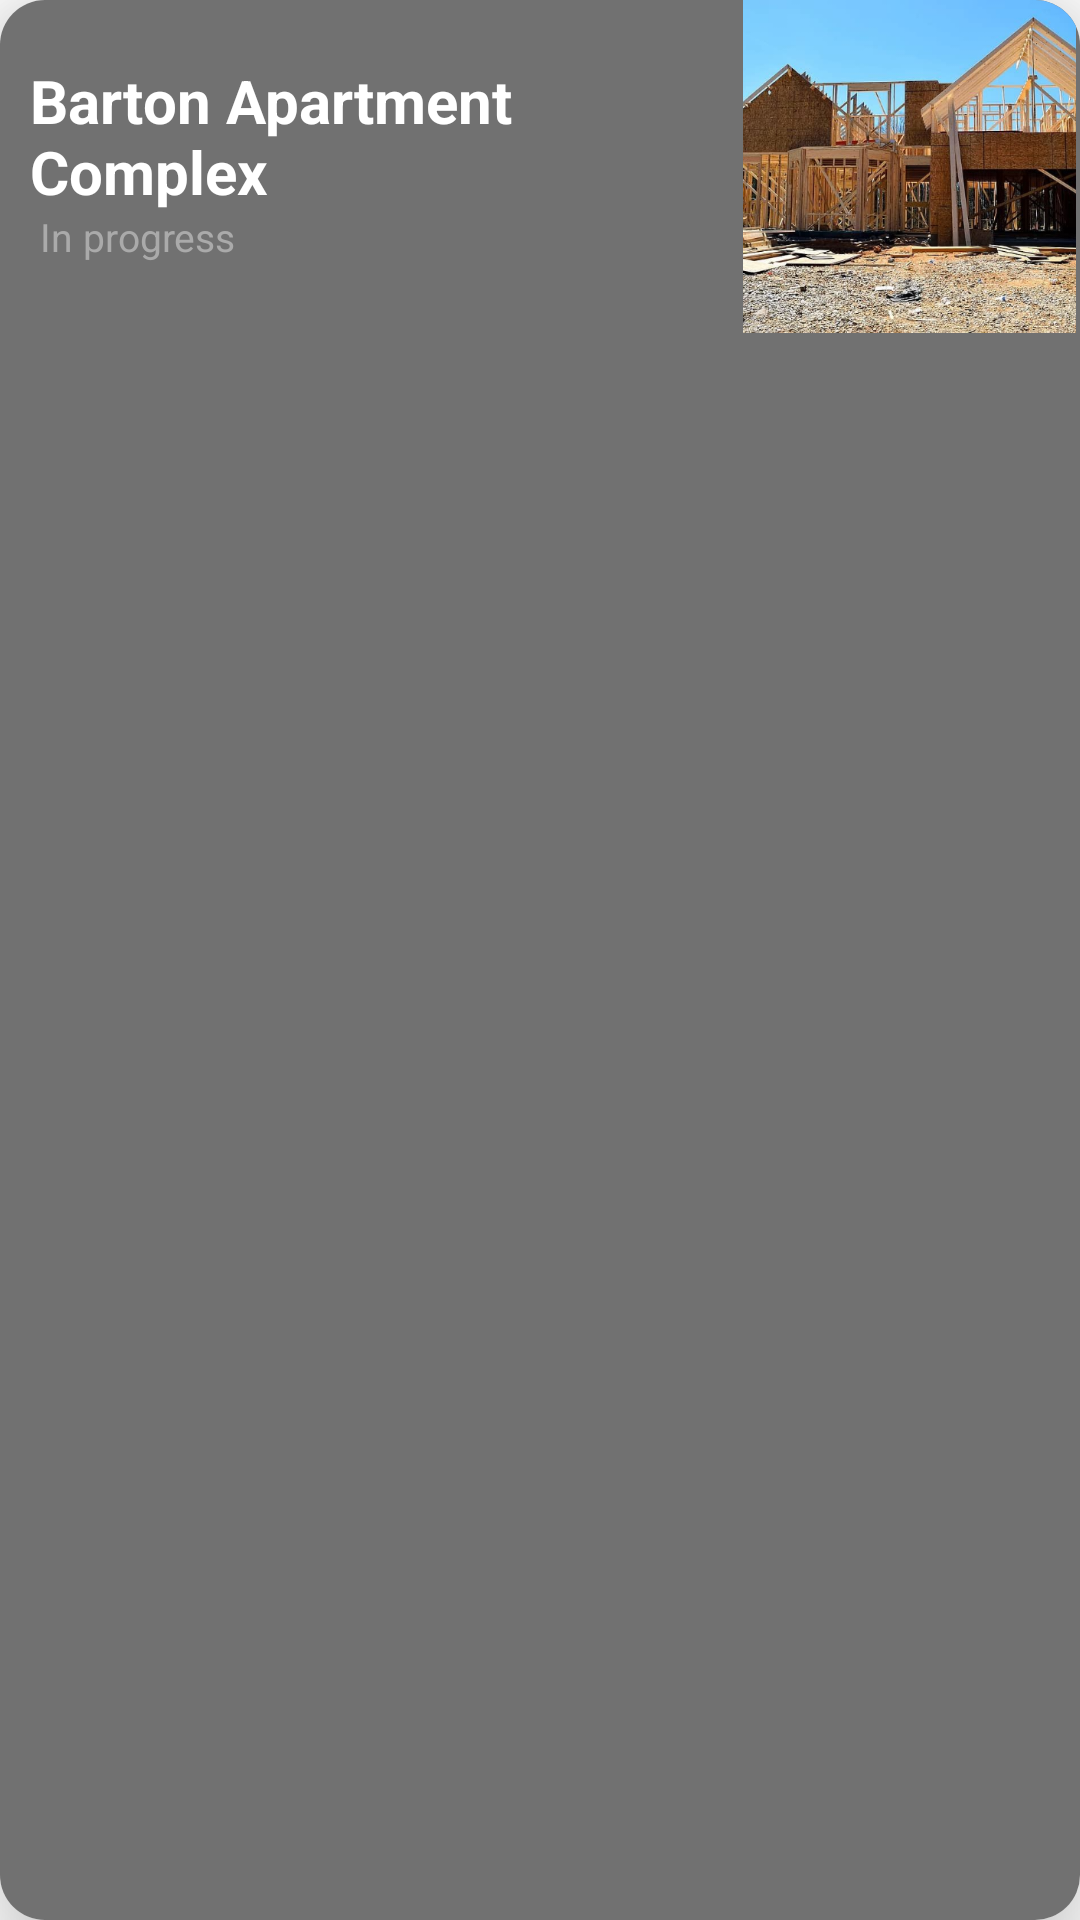

Point at icon controls on the screen. Image size 1080x1920, points as (x=x, y=y).
project: (x=911, y=166)
